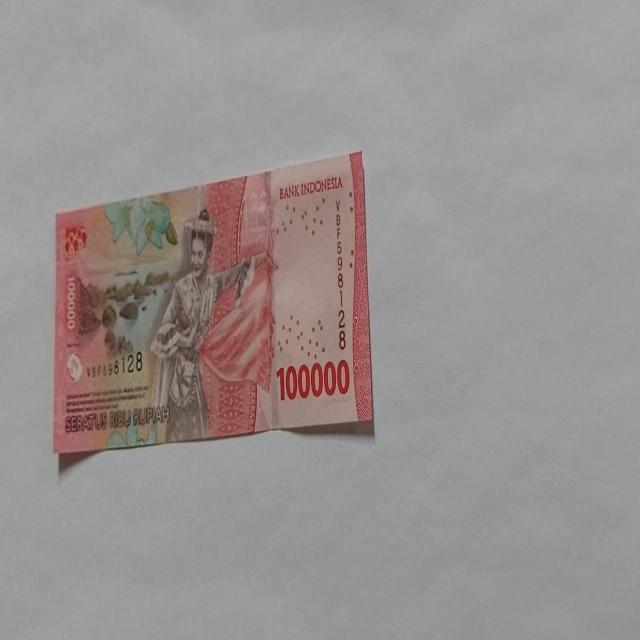Kertas: (52, 148, 374, 458), (275, 356, 351, 402)
